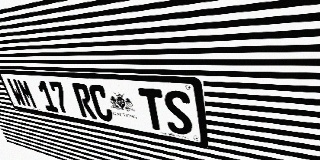1: (35, 80, 59, 113)
7: (48, 81, 72, 115)
C: (87, 84, 115, 122)
M: (16, 79, 38, 109)
R: (71, 83, 97, 119)
S: (162, 89, 194, 137)
T: (138, 88, 168, 132)
W: (6, 78, 28, 107)
